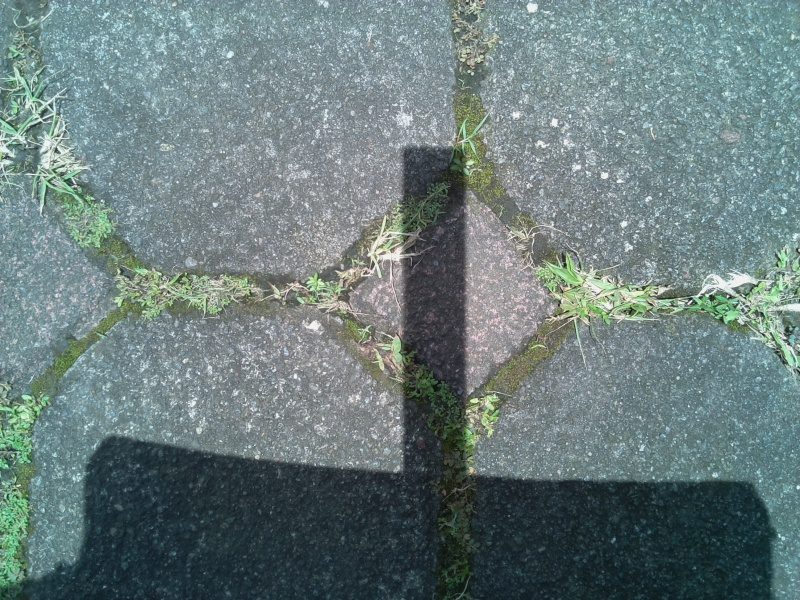Weed: (701, 245, 800, 372), (5, 71, 84, 206), (432, 399, 484, 596), (542, 258, 674, 327), (112, 263, 260, 323), (374, 335, 458, 418), (366, 180, 441, 270), (2, 394, 31, 597), (287, 272, 352, 316), (444, 123, 488, 186)
